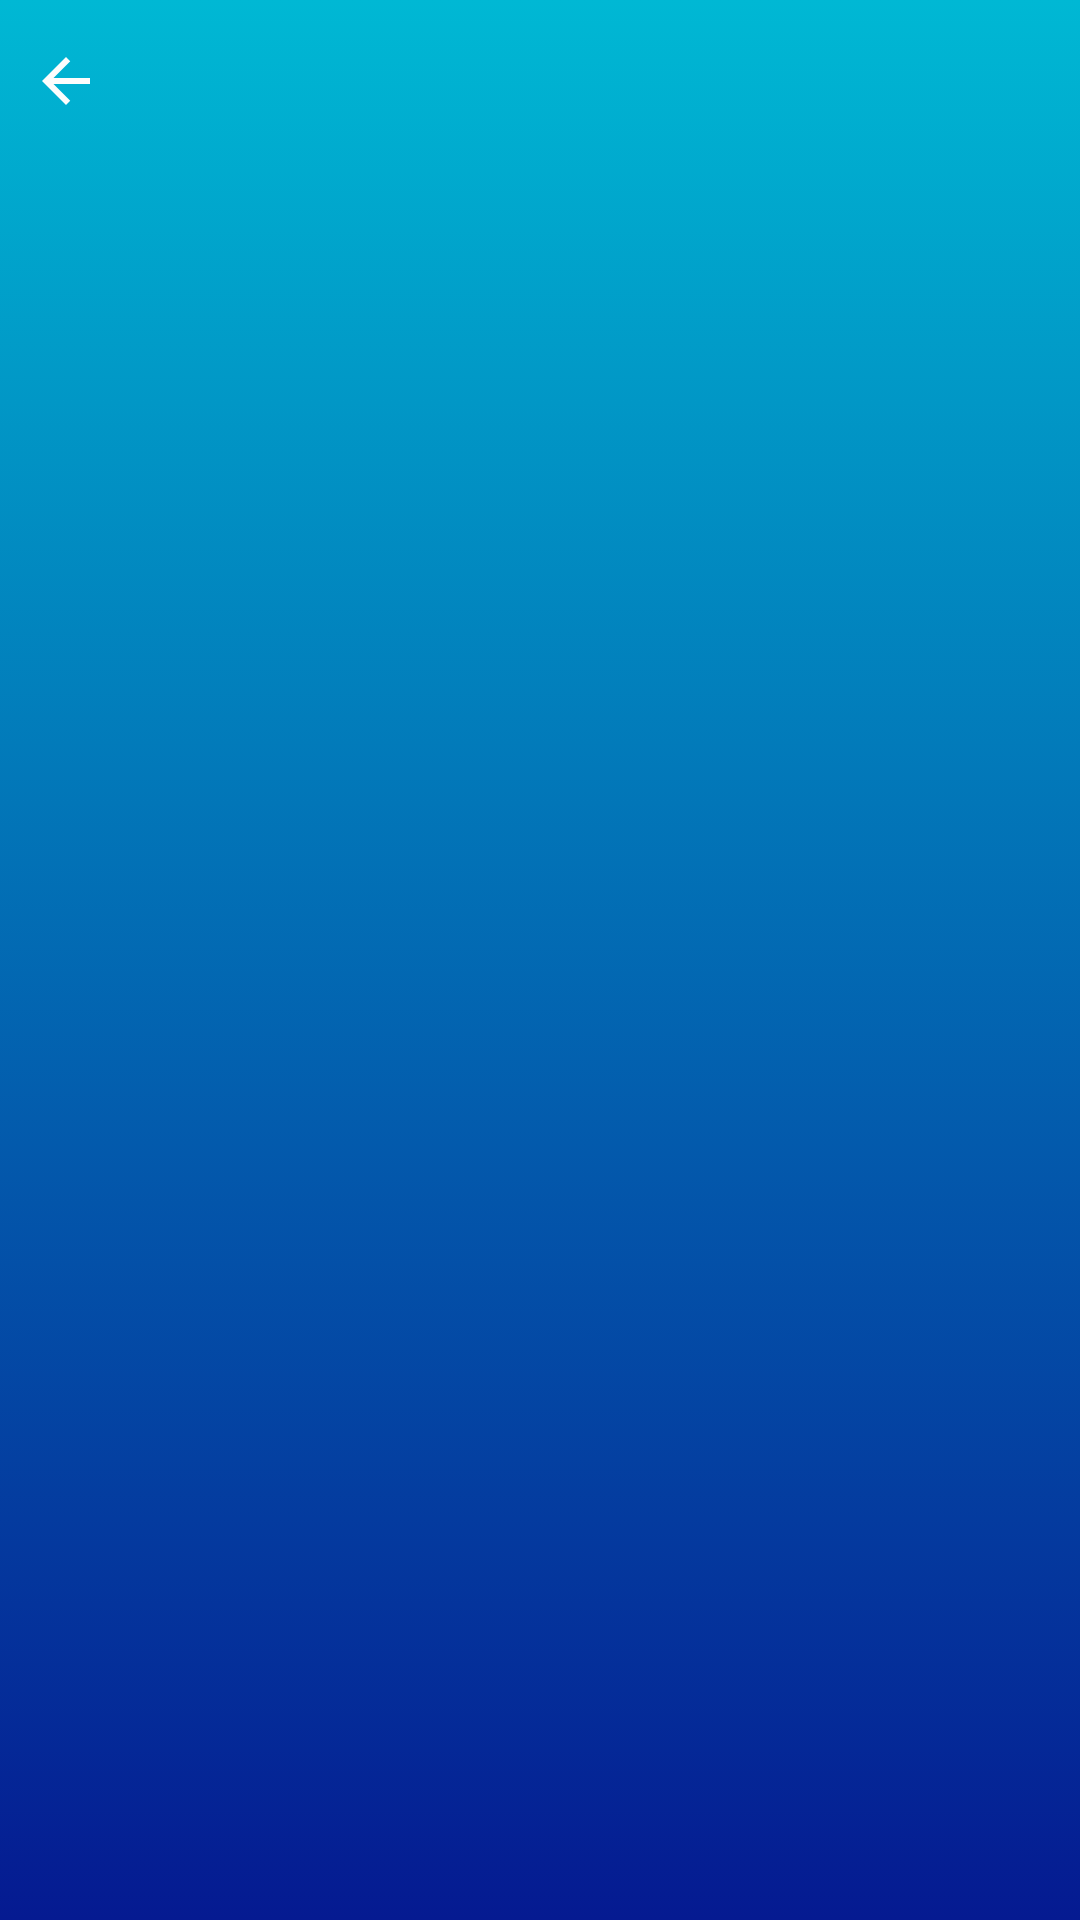

Where to tap for icons on this 1080w x 1920h app screen, as [x,y]:
arrow back: [66,81]
